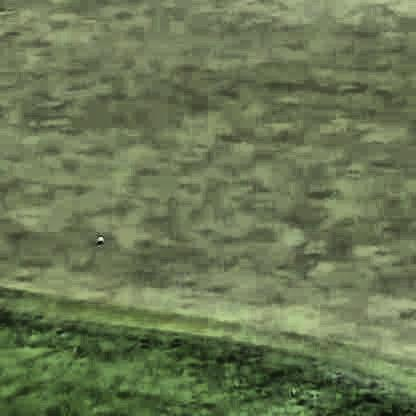golfball: (94, 232, 104, 242)
